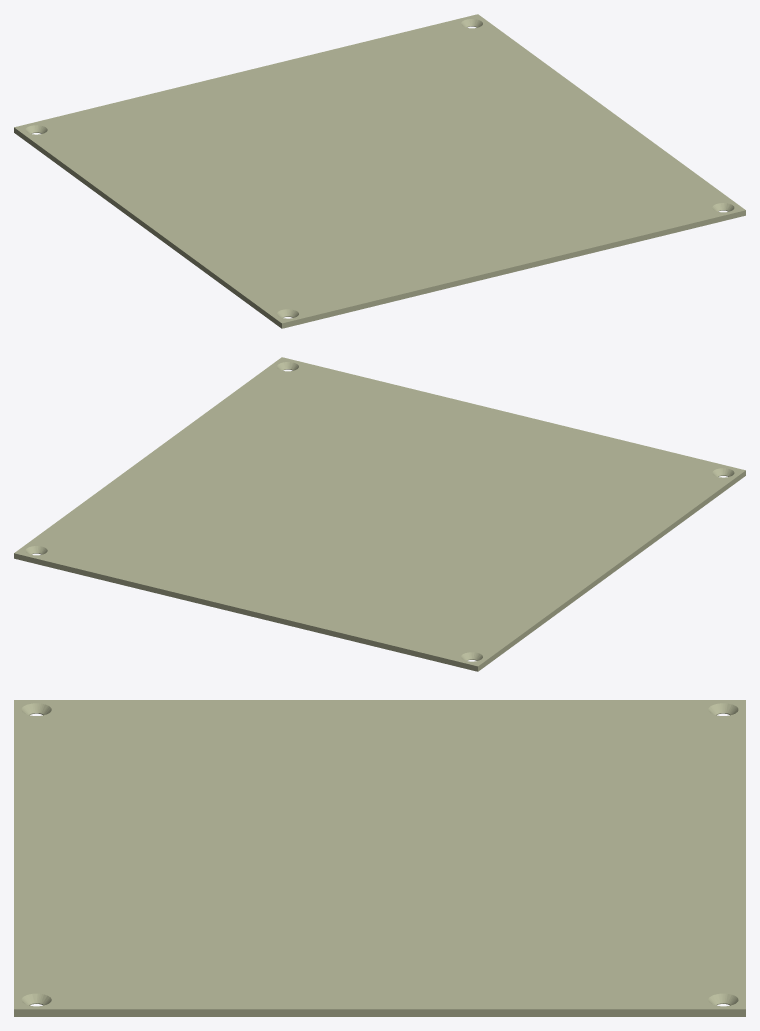
The model's file is tinker.obj.
The picture shows the model from 3 angles, top to bottom: view 1: azimuth 30°, elevation 25°; view 2: azimuth 150°, elevation 25°; view 3: azimuth 270°, elevation 25°; orthographic projection. The views are drawn at different scales.
Visible parts, largest first — view 1: obj_0; view 2: obj_0; view 3: obj_0.
Boxes of the visible parts, x1,y1,x2,y2 form: obj_0: (14,14,745,328); obj_0: (14,357,745,671); obj_0: (14,700,745,1016).
Bounding box in the file's own units: 162 × 5.8 × 162.
